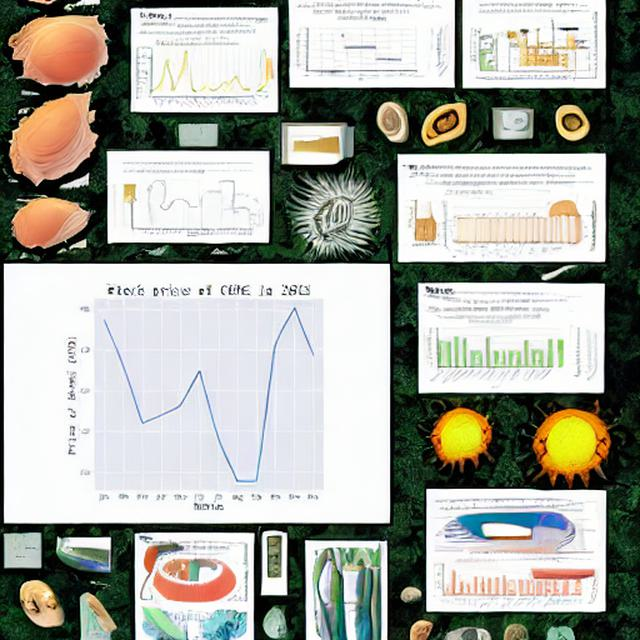Graph: (24, 269, 385, 517), (423, 313, 557, 392), (292, 7, 423, 85), (134, 41, 255, 110), (432, 559, 517, 609)
